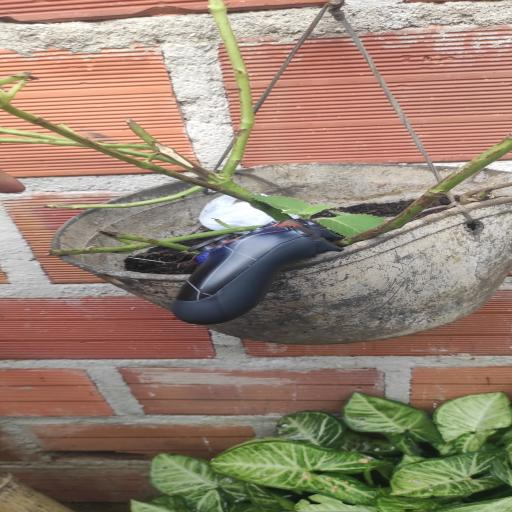ControlPlay4: (173, 219, 341, 325)
